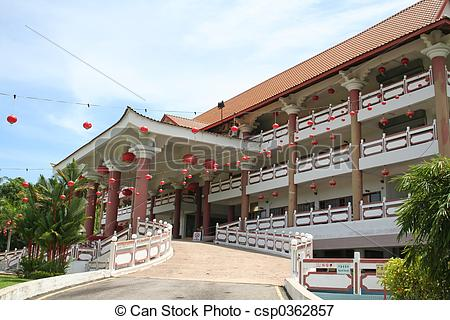Buddhist Temple: (66, 10, 431, 234)
